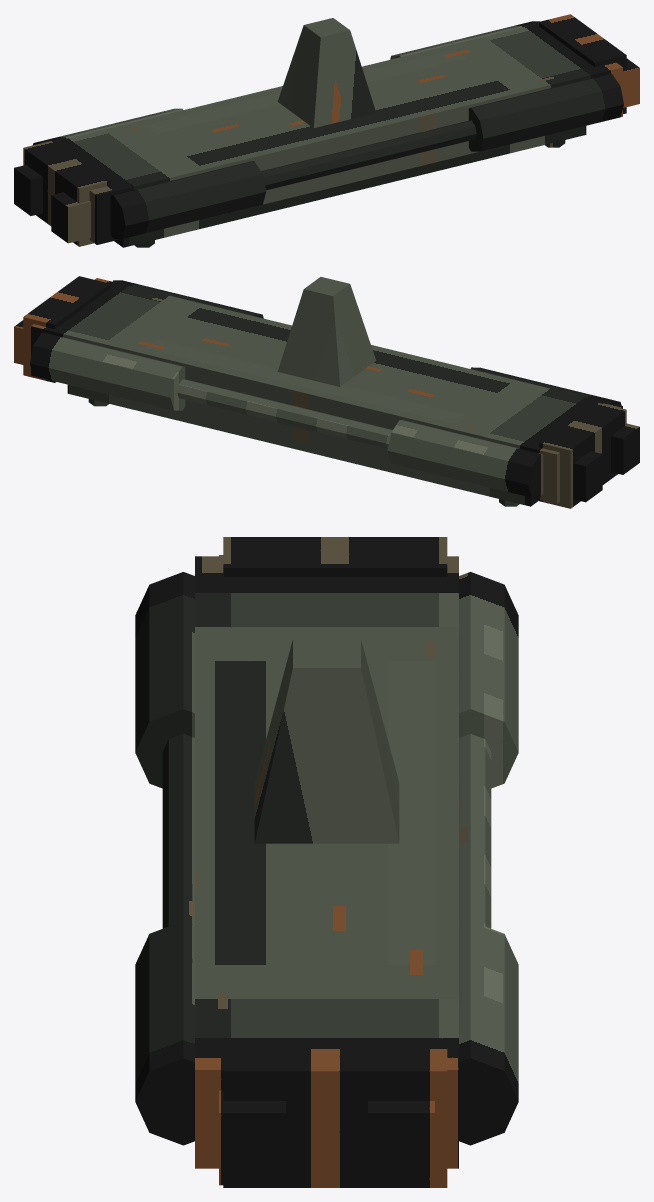
The model's file is track_link.glb.
3 views of the same model, one above another, from view 1: azimuth 30°, elevation 25°; view 2: azimuth 150°, elevation 25°; view 3: azimuth 270°, elevation 25° (orthographic). The views are drawn at different scales.
Parts seen in each view (by area): view 1: shoe_base, center_guide_horn, pin_lug_rear_L, pin_lug_rear_R, ground_cleat_0, pin_bar_rear, outer_edge_L, outer_edge_R, outer_tooth_L_-0.04, outer_tooth_L_+0.04, outer_tooth_R_-0.04, pin_lug_front_R (+1 smaller); view 2: shoe_base, center_guide_horn, pin_lug_front_L, pin_lug_front_R, ground_cleat_2, pin_bar_front, outer_edge_L, outer_edge_R, outer_tooth_L_+0.04, outer_tooth_L_-0.04, pin_lug_rear_L, pin_lug_rear_R (+1 smaller); view 3: shoe_base, center_guide_horn, outer_edge_R, pin_lug_front_R, pin_lug_rear_R, pin_lug_front_L, pin_lug_rear_L, outer_edge_L, pin_bar_front, pin_bar_rear, outer_tooth_R_-0.04, outer_tooth_R_+0.04.
Boxes of the visible parts, bbox=[...] form: shoe_base: bbox=[57, 23, 622, 244]; center_guide_horn: bbox=[277, 18, 376, 127]; pin_lug_rear_L: bbox=[110, 161, 266, 238]; pin_lug_rear_R: bbox=[468, 73, 623, 151]; ground_cleat_0: bbox=[114, 126, 586, 247]; pin_bar_rear: bbox=[261, 120, 476, 190]; outer_edge_L: bbox=[23, 140, 110, 246]; outer_edge_R: bbox=[539, 14, 626, 113]; outer_tooth_L_-0.04: bbox=[51, 192, 90, 243]; outer_tooth_L_+0.04: bbox=[14, 165, 42, 215]; outer_tooth_R_-0.04: bbox=[623, 58, 639, 107]; pin_lug_front_R: bbox=[390, 21, 539, 59]; shoe_base: bbox=[31, 278, 622, 503]; center_guide_horn: bbox=[277, 277, 376, 386]; pin_lug_front_L: bbox=[387, 420, 543, 497]; pin_lug_front_R: bbox=[30, 332, 185, 410]; ground_cleat_2: bbox=[67, 384, 538, 506]; pin_bar_front: bbox=[177, 379, 392, 449]; outer_edge_L: bbox=[539, 402, 626, 508]; outer_edge_R: bbox=[23, 276, 110, 382]; outer_tooth_L_+0.04: bbox=[573, 451, 602, 502]; outer_tooth_L_-0.04: bbox=[611, 423, 639, 474]; pin_lug_rear_L: bbox=[470, 367, 621, 405]; pin_lug_rear_R: bbox=[113, 280, 263, 318]; shoe_base: bbox=[195, 556, 458, 1168]; center_guide_horn: bbox=[254, 639, 399, 843]; outer_edge_R: bbox=[223, 1040, 447, 1187]; pin_lug_front_R: bbox=[459, 921, 518, 1145]; pin_lug_rear_R: bbox=[135, 921, 194, 1145]; pin_lug_front_L: bbox=[459, 572, 518, 788]; pin_lug_rear_L: bbox=[135, 572, 194, 788]; outer_edge_L: bbox=[223, 537, 447, 576]; pin_bar_front: bbox=[459, 734, 491, 928]; pin_bar_rear: bbox=[162, 734, 194, 928]; outer_tooth_R_-0.04: bbox=[219, 1090, 285, 1185]; outer_tooth_R_+0.04: bbox=[368, 1101, 434, 1185].
Bounding box in the file's own units: 0.6304 × 0.158 × 0.183.
Materials: 1 (1 with a texture image).
